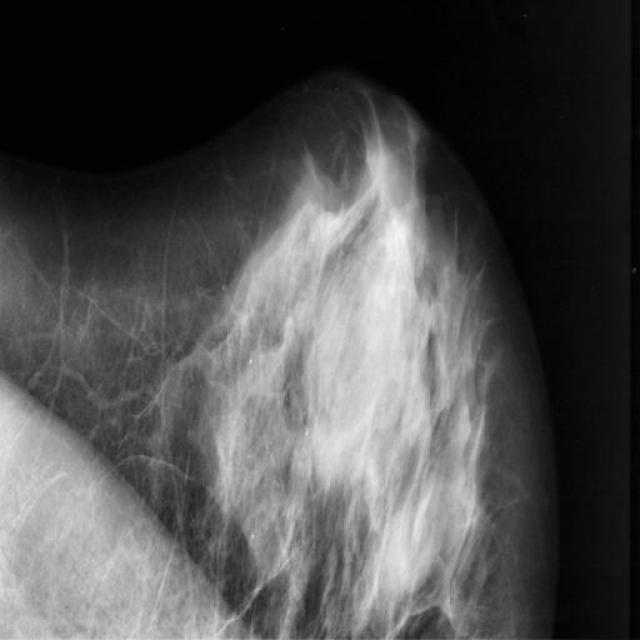cancer: (300, 157, 374, 273)
